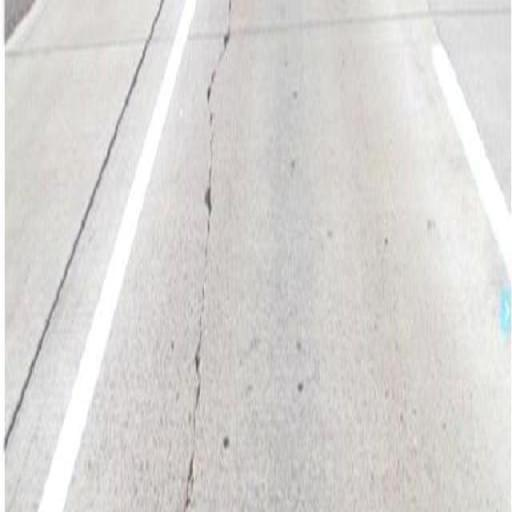moderate crack: (183, 10, 227, 503)
severe crack: (207, 4, 505, 503), (7, 3, 186, 462), (219, 7, 507, 36), (365, 138, 424, 259), (113, 0, 172, 59), (188, 364, 203, 446), (180, 454, 195, 508), (217, 24, 232, 61), (73, 211, 91, 240), (199, 268, 209, 317), (203, 185, 212, 222), (204, 79, 214, 104), (193, 350, 200, 372)
